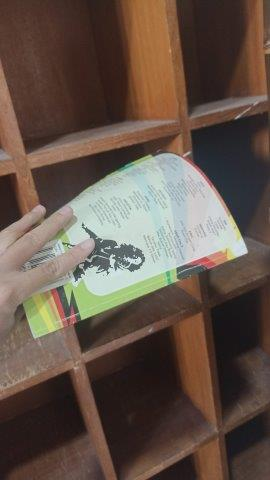kertas: (19, 148, 249, 334)
